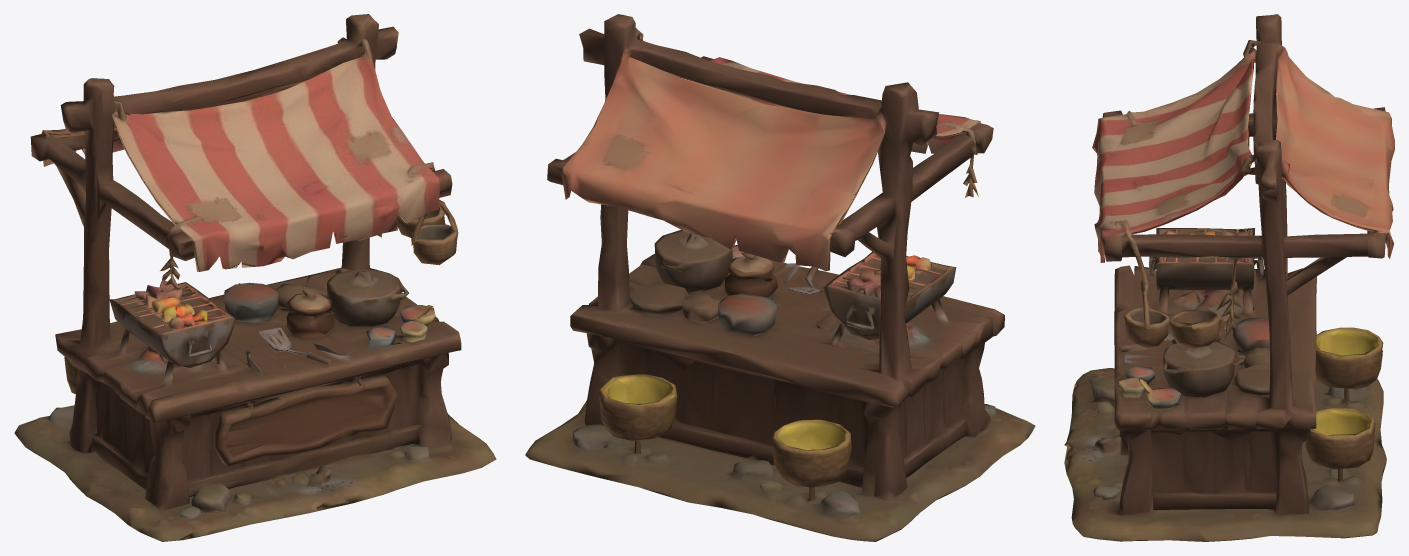
File: festival_ground_grill.glb
3 views of the same model, side by side, from view 1: azimuth 30°, elevation 25°; view 2: azimuth 150°, elevation 25°; view 3: azimuth 270°, elevation 25° (orthographic). The views are drawn at different scales.
Parts seen in each view (by area): view 1: tripo_node_877ceefc-5cab-4b2c-90ed-4102292fed4c; view 2: tripo_node_877ceefc-5cab-4b2c-90ed-4102292fed4c; view 3: tripo_node_877ceefc-5cab-4b2c-90ed-4102292fed4c.
Boxes of the visible parts, left/top/right/bottom form: tripo_node_877ceefc-5cab-4b2c-90ed-4102292fed4c: left=14, top=14, right=496, bottom=541; tripo_node_877ceefc-5cab-4b2c-90ed-4102292fed4c: left=525, top=14, right=1035, bottom=541; tripo_node_877ceefc-5cab-4b2c-90ed-4102292fed4c: left=1064, top=14, right=1394, bottom=541.
Size of the model in its own units: 0.9753 by 1 by 0.7959.
Materials: 1 (1 with a texture image).
